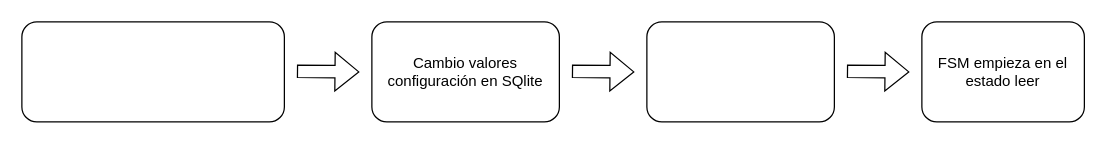
Image size: 1106x144. Some labels were removed from this diagram. The centre of each missing label's shape, as x and y in pixels:
"Cambio de WAIT_TIME en Grafana (tecla pulsada)" belongs at pixel 152 71.
"Hebra detecta el cambio de configuración" belongs at pixel 740 71.
